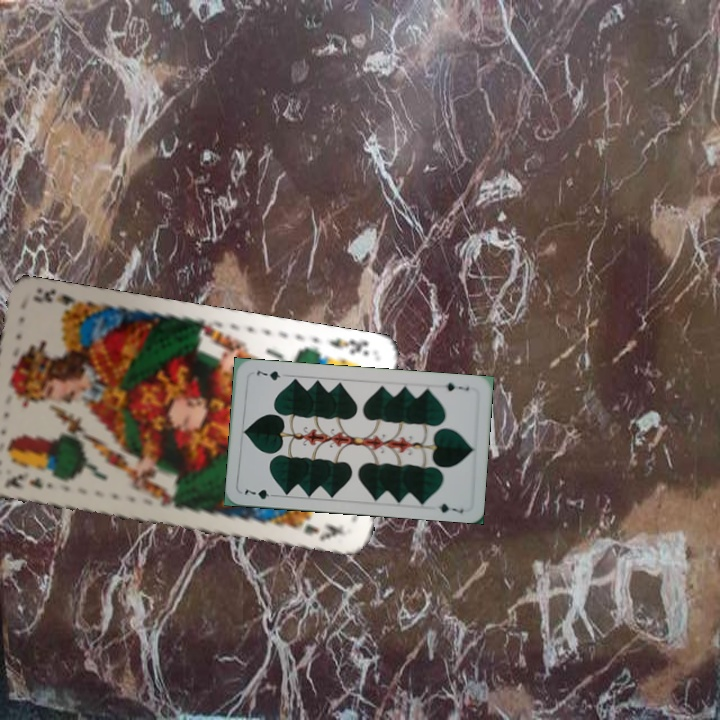EK: (324, 334, 372, 359), (1, 470, 56, 491)
G7: (241, 485, 280, 502), (441, 379, 471, 394)
